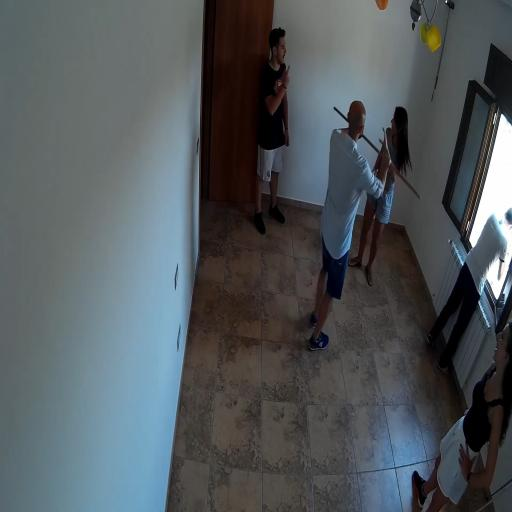violencia: (293, 80, 425, 356)
